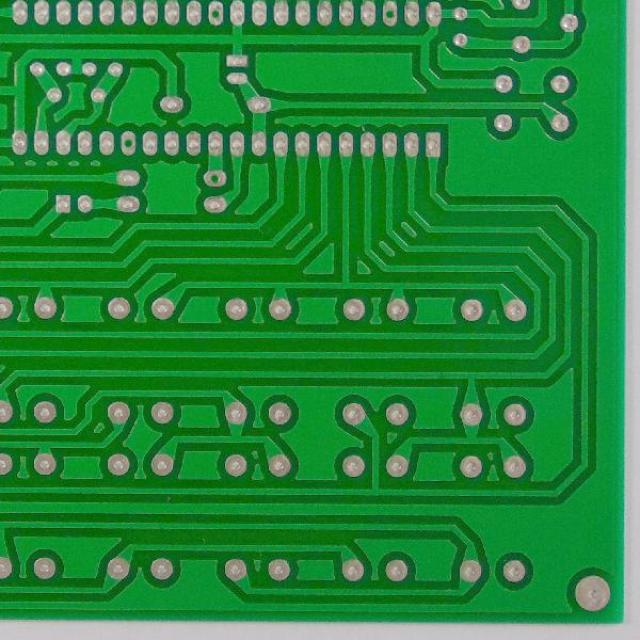Missing_Hole: (200, 168, 228, 189), (205, 0, 226, 28), (117, 130, 138, 157), (380, 0, 400, 28)
